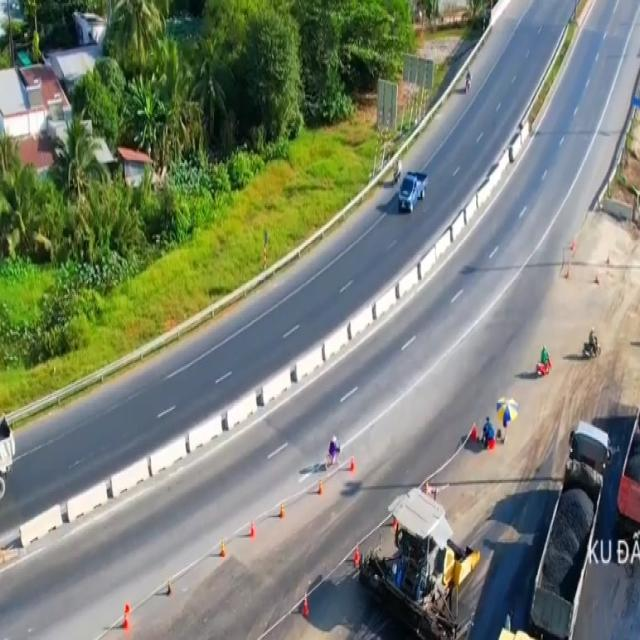motorbike: (537, 344, 552, 378), (583, 330, 599, 358), (464, 66, 473, 92)
truck: (400, 169, 425, 215)
